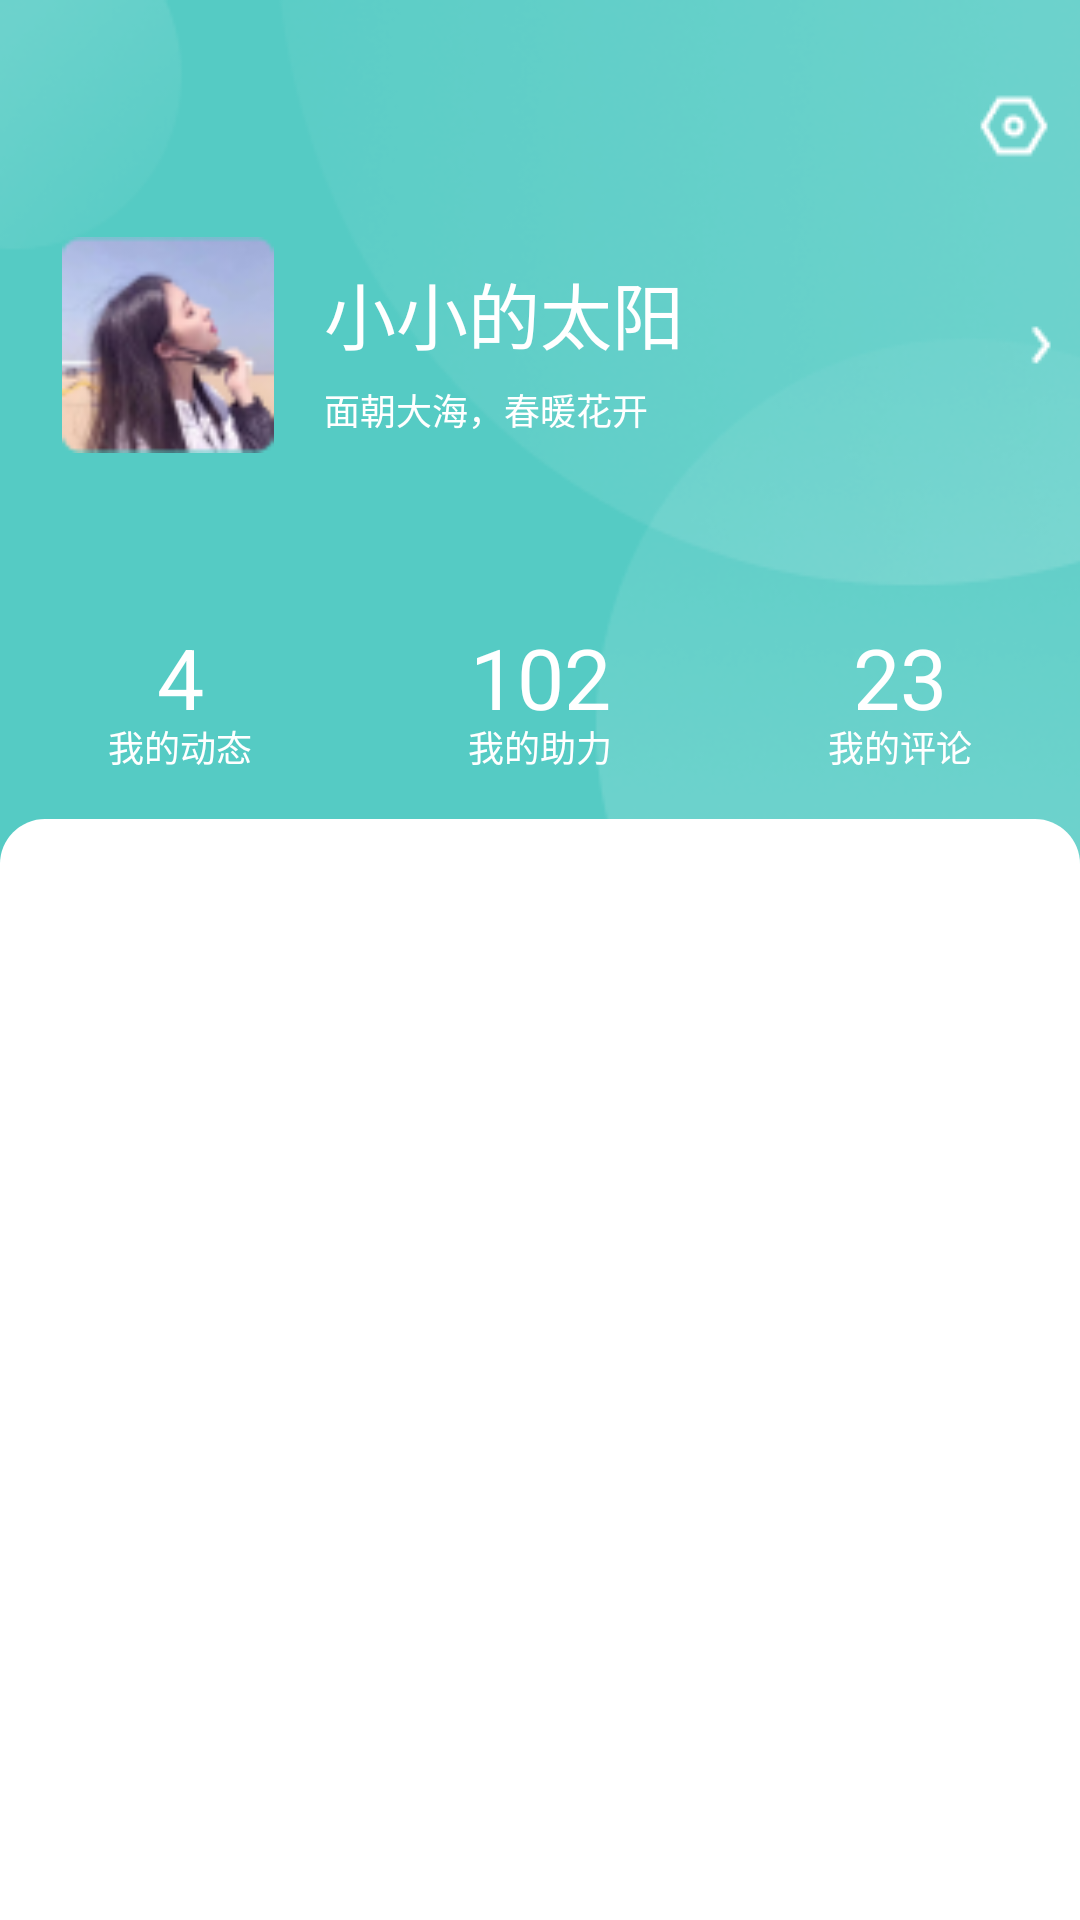

Screen size 1080 × 1920. Icon name, then its box in pixels as (x1, y1, x2, y2):
school talk head: (62, 237, 274, 453)
src mine info next: (1031, 326, 1051, 364)
src mine setting: (980, 95, 1048, 157)
